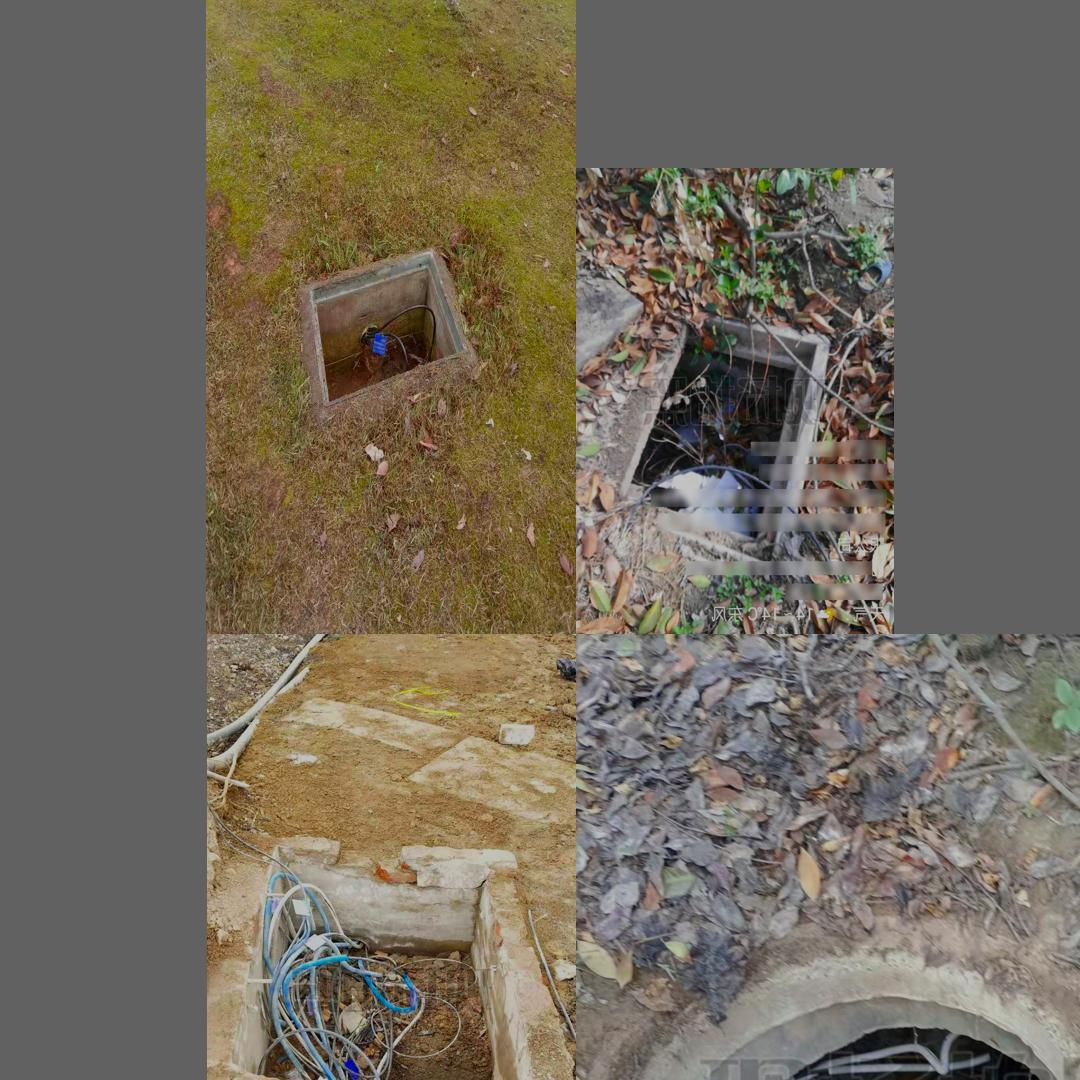lose: (220, 856, 535, 1080), (616, 311, 831, 573), (668, 989, 1080, 1080), (302, 245, 466, 415)
